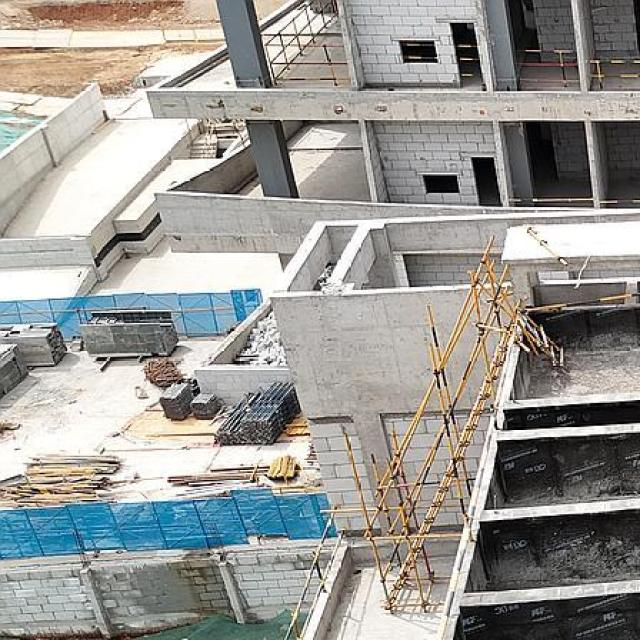edge_guardrail: (439, 327, 517, 640), (282, 501, 362, 640), (264, 0, 350, 87), (513, 49, 578, 88), (525, 292, 639, 312), (585, 58, 640, 90), (455, 44, 481, 76), (401, 43, 438, 60), (509, 198, 594, 202), (598, 199, 640, 204)
